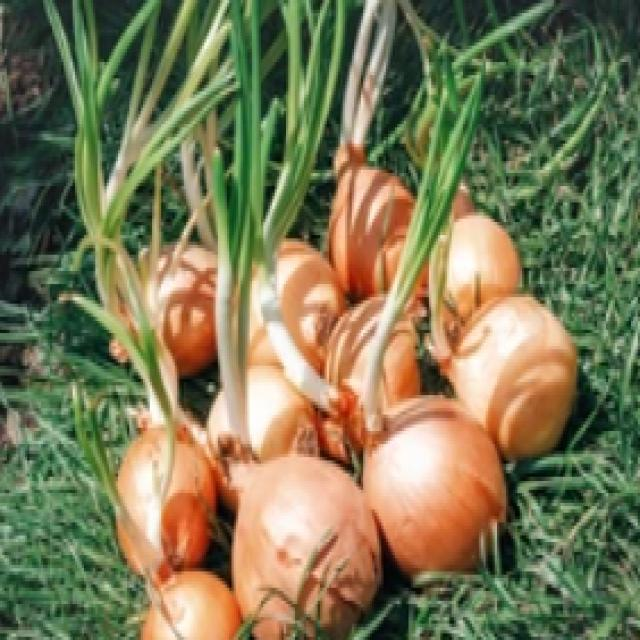sprouting: (209, 314, 254, 458), (130, 330, 174, 424), (350, 336, 390, 428), (426, 264, 449, 376)
